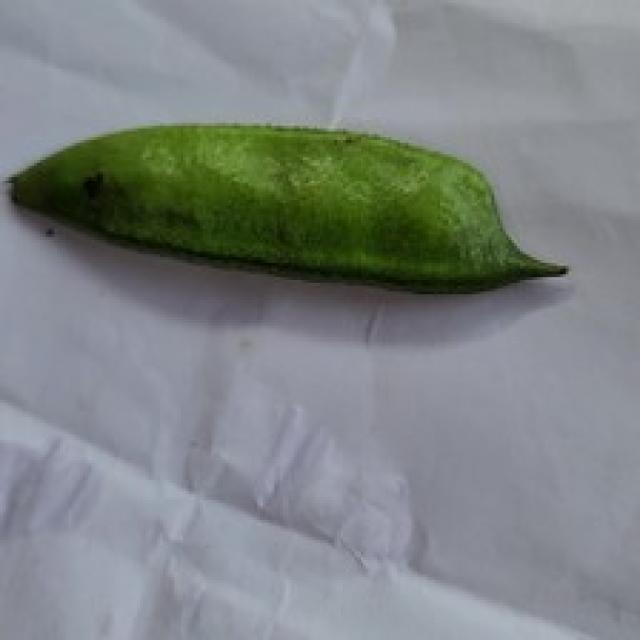Bean: (3, 120, 568, 294)
